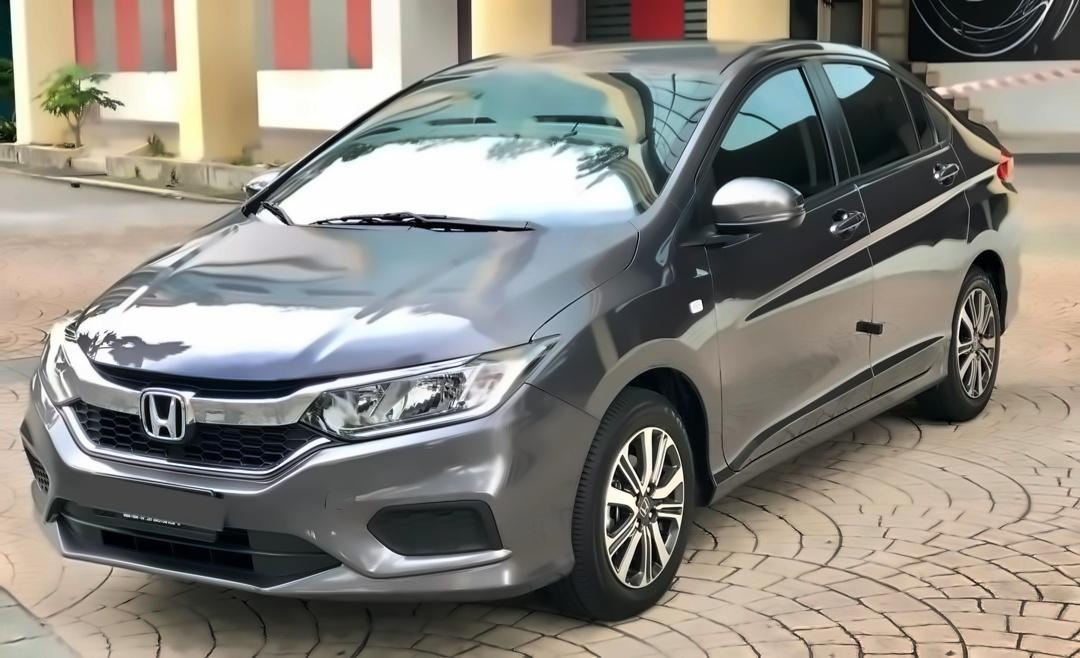Car hood: (67, 197, 645, 387)
Fender - -F-L-: (520, 196, 729, 514)
Fender - -R-L-: (939, 141, 1020, 396)
Front bumper: (3, 394, 602, 617)
Headlight - -L-: (296, 323, 570, 448)
Headlight - -R-: (22, 317, 94, 412)
Passenger-s door - -F-L-: (707, 43, 876, 472)
Passenger-s door - -R-L-: (833, 43, 984, 400)
Rear bumper: (996, 245, 1034, 344)
Rear light - -L-: (982, 132, 1029, 200)
Side bumper - -L-: (689, 333, 956, 509)
Side mirror - -L-: (704, 169, 811, 242)
Side mirror - -R-: (233, 162, 304, 212)
